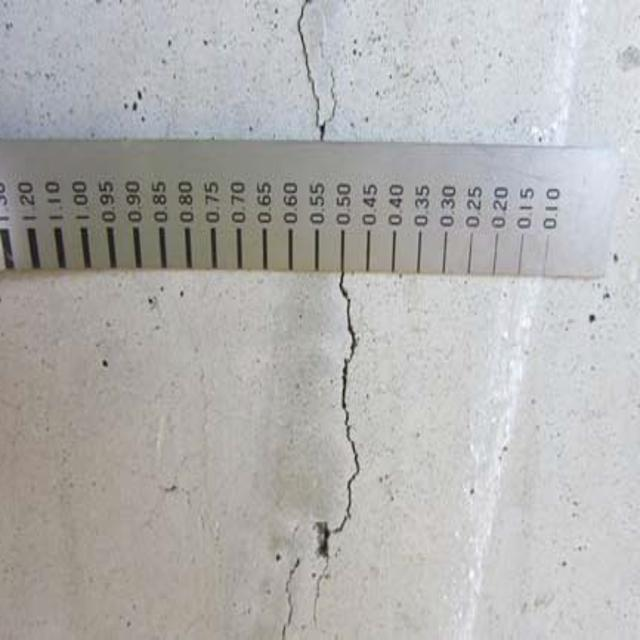crack: (277, 275, 391, 640), (277, 3, 362, 141)
